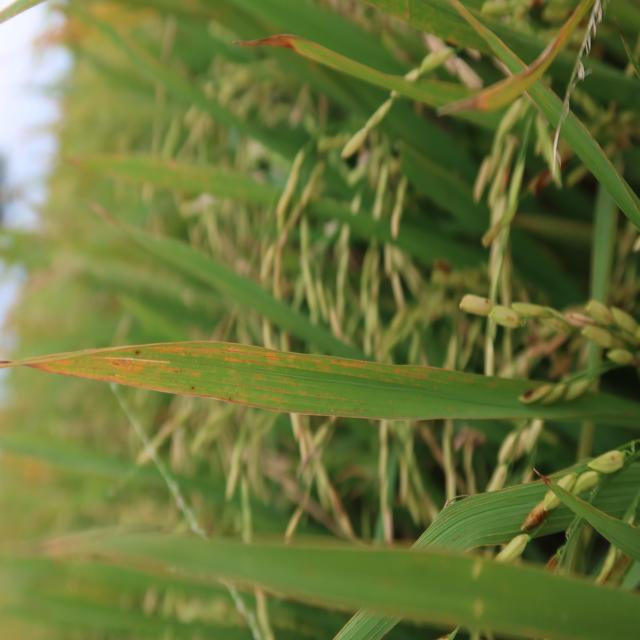Dom soc vi khuan: (148, 343, 445, 388), (39, 355, 201, 395), (215, 368, 307, 412)
